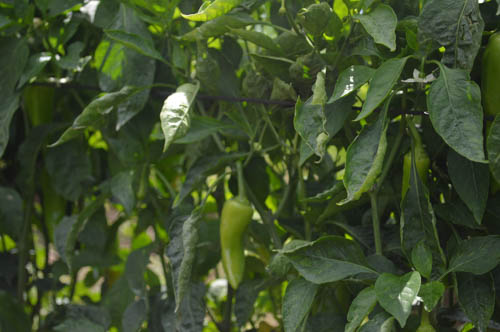ChiliPepper: (218, 200, 253, 290), (399, 155, 429, 197)
